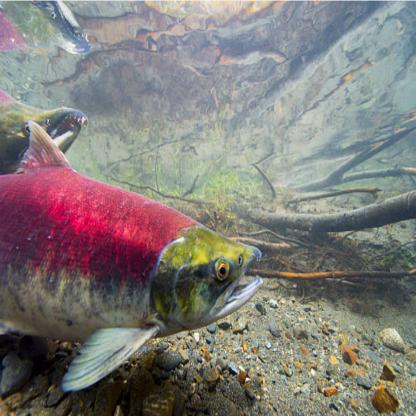sockeye: (0, 158, 260, 342), (0, 86, 80, 160)
